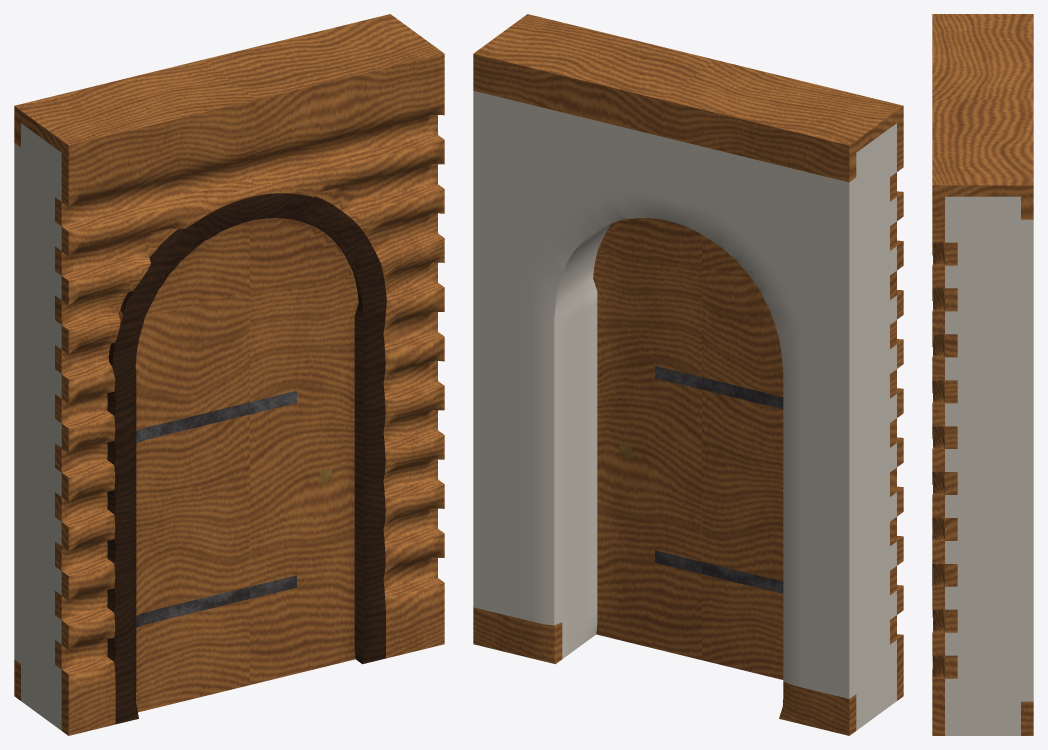
File: wall_out_plank_door.glb
The picture shows the model from 3 angles, left to right: view 1: azimuth 30°, elevation 25°; view 2: azimuth 150°, elevation 25°; view 3: azimuth 270°, elevation 25°; orthographic projection. The views are drawn at different scales.
Visible parts, largest first — view 1: town_wall_out_plank_door; view 2: town_wall_out_plank_door; view 3: town_wall_out_plank_door.
Part boxes in pixels (box(x1,y1,x2,y2)): town_wall_out_plank_door: box(14, 14, 444, 735); town_wall_out_plank_door: box(473, 14, 903, 735); town_wall_out_plank_door: box(932, 14, 1033, 735).
Bounding box in the file's own units: 1 × 1.5 × 0.25.
Materials: 2 (1 with a texture image).
